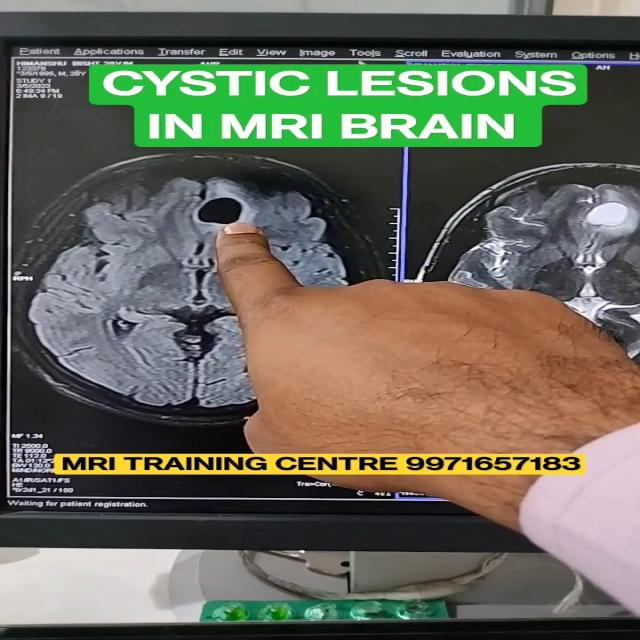tumor: (182, 192, 266, 235), (570, 197, 640, 246)
